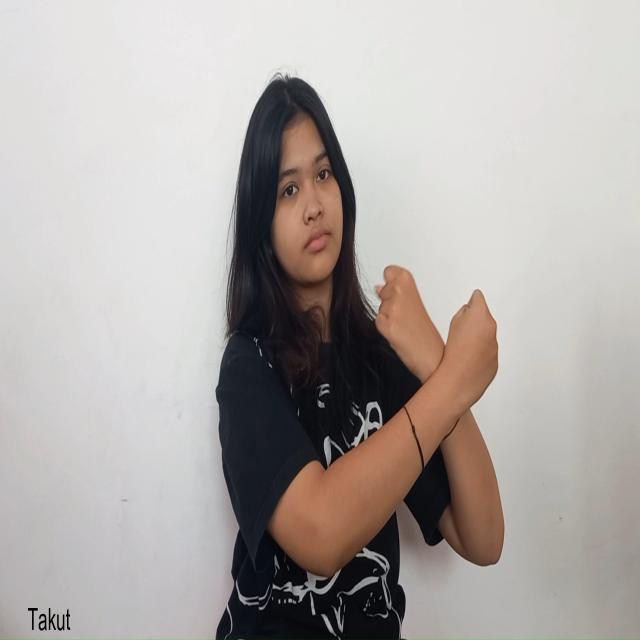Takut -BISINDO-: (373, 261, 499, 422)
